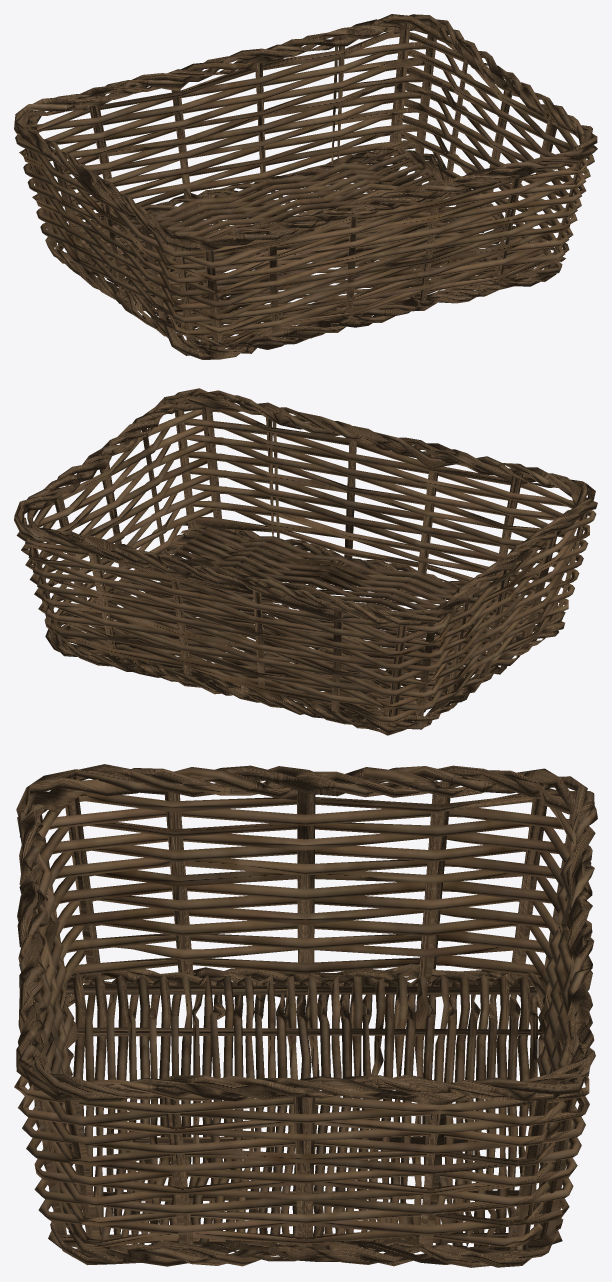
The model's file is ph2_wicker_basket_01.glb.
3 views of the same model, one above another, from view 1: azimuth 30°, elevation 25°; view 2: azimuth 150°, elevation 25°; view 3: azimuth 270°, elevation 25° (orthographic). The views are drawn at different scales.
Size of the model in its own units: 0.383 by 0.1174 by 0.2939.
1 material, 1 textured.
